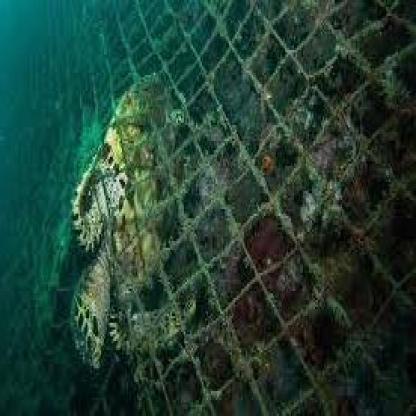net: (12, 2, 416, 416)
